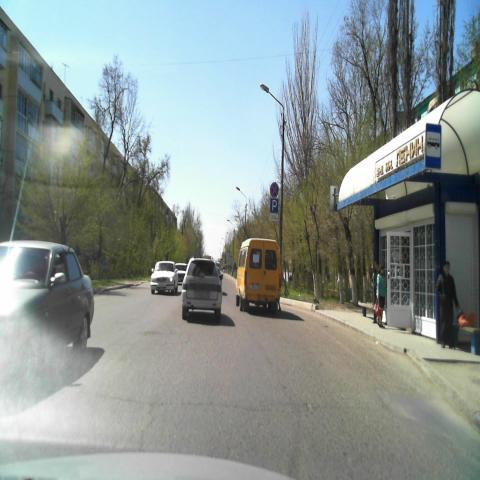5_16: (424, 124, 440, 171)
